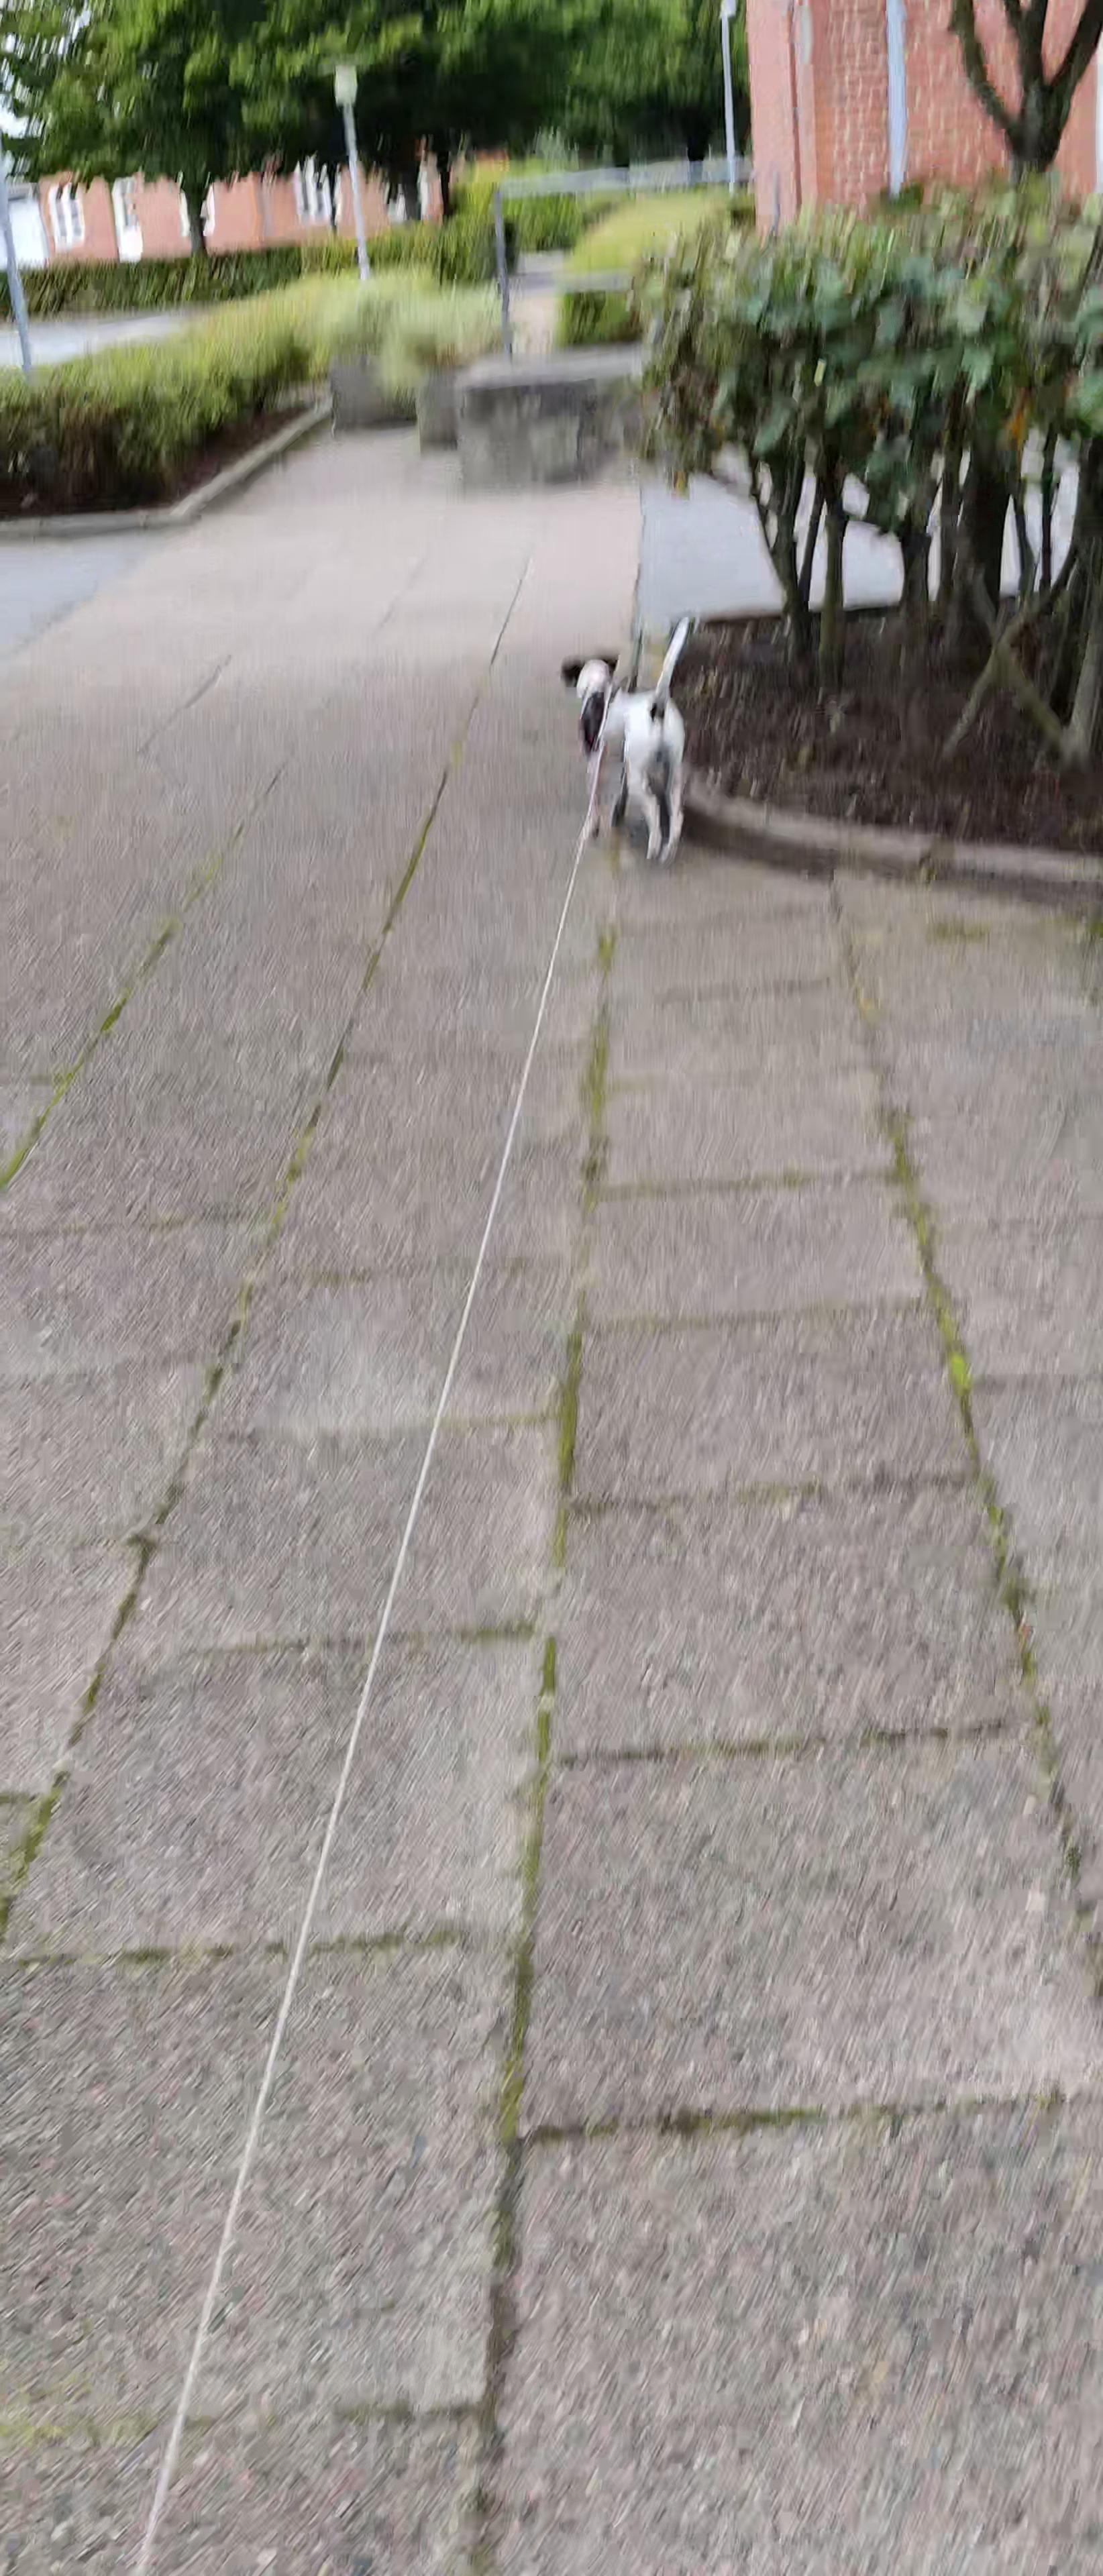Dog: (556, 611, 697, 867)
